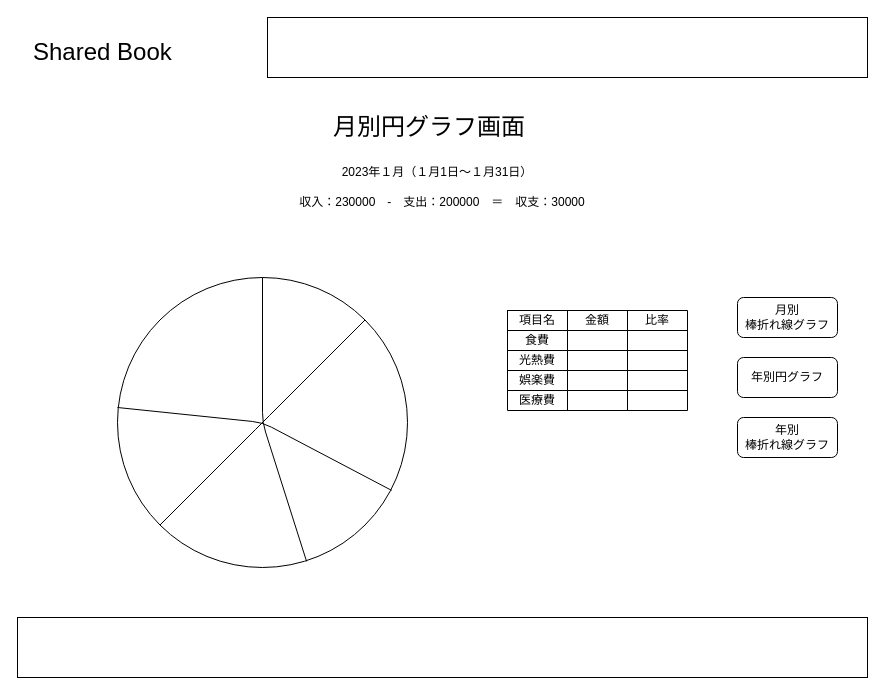
The diagram is 885 pixels wide and 695 high, and some of its shapes have lost their labels. The box of each missing label's shape, as (x1, y1, x2, y2) in pixels:
@ 2024 Shared Book ALL RIGHTS RESERVED.: (16, 616, 868, 678)
収入支出一覧 項目一覧 カレンダー一覧 グラフ 割勘一覧 アカウント ログアウト: (266, 16, 868, 78)
